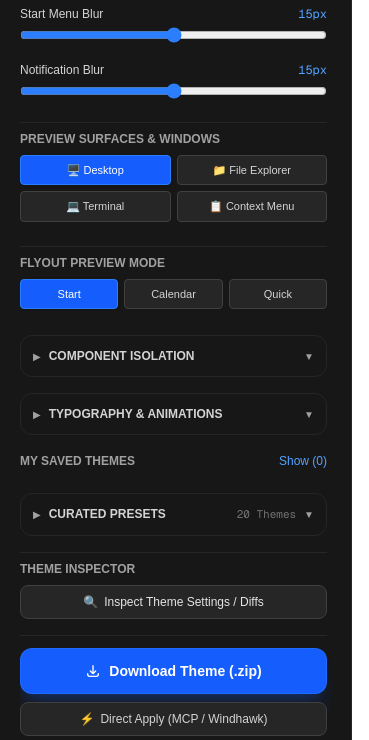
Test case: renders Component Isolation and Typography & Animations accordions
The width and height of the screenshot is (369, 740).
(page scrolled)
Clicking it expands Component Isolation
Click the button "▶ Component Isolation ▼": (174, 356) [33, 348, 314, 364]
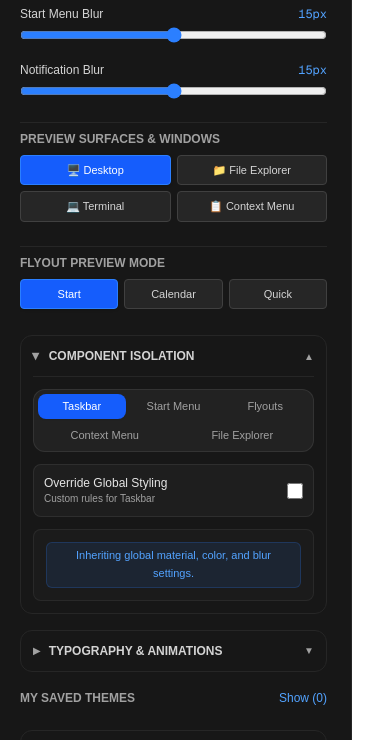
Check: the button "Taskbar" is shown, box [38, 394, 126, 418]
Check: the button "Start Menu" is shown, box [130, 394, 217, 418]
Check: the button "Flyouts" is shown, box [221, 394, 309, 418]
Clicking it expands Typography & Animations
Click the button "▶ Typography & Animations ▼": (174, 651) [33, 643, 314, 659]
(page scrolled)
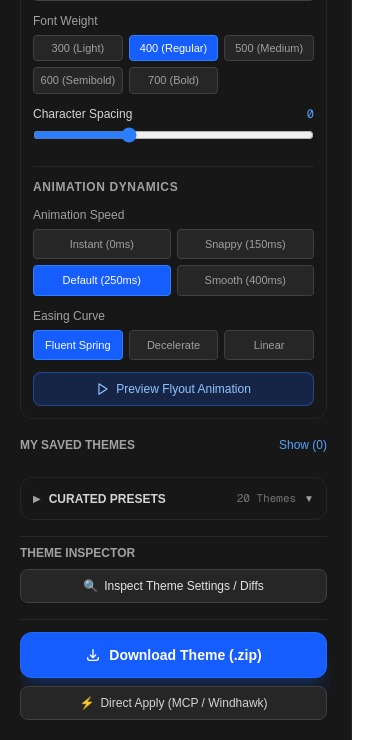
Check: the button "Preview Flyout Animation" is shown, box [33, 372, 314, 406]
